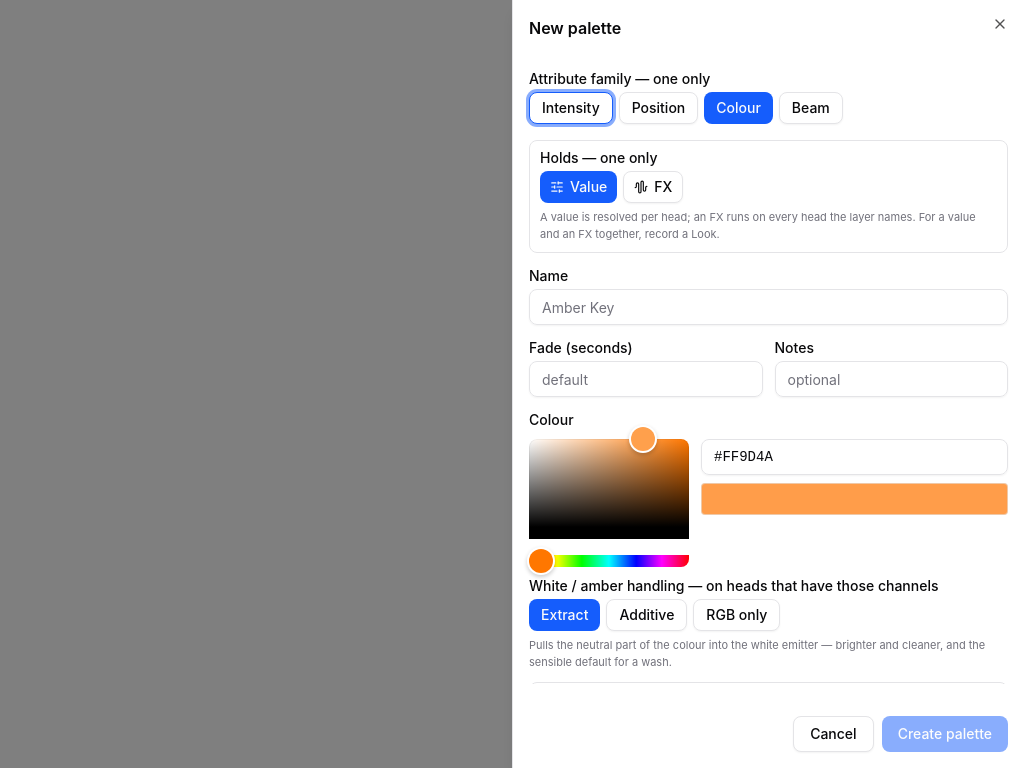
the effect branch › offers only the family’s own category
Click the button "FX". click: (653,187)
box: [623,171,683,203]
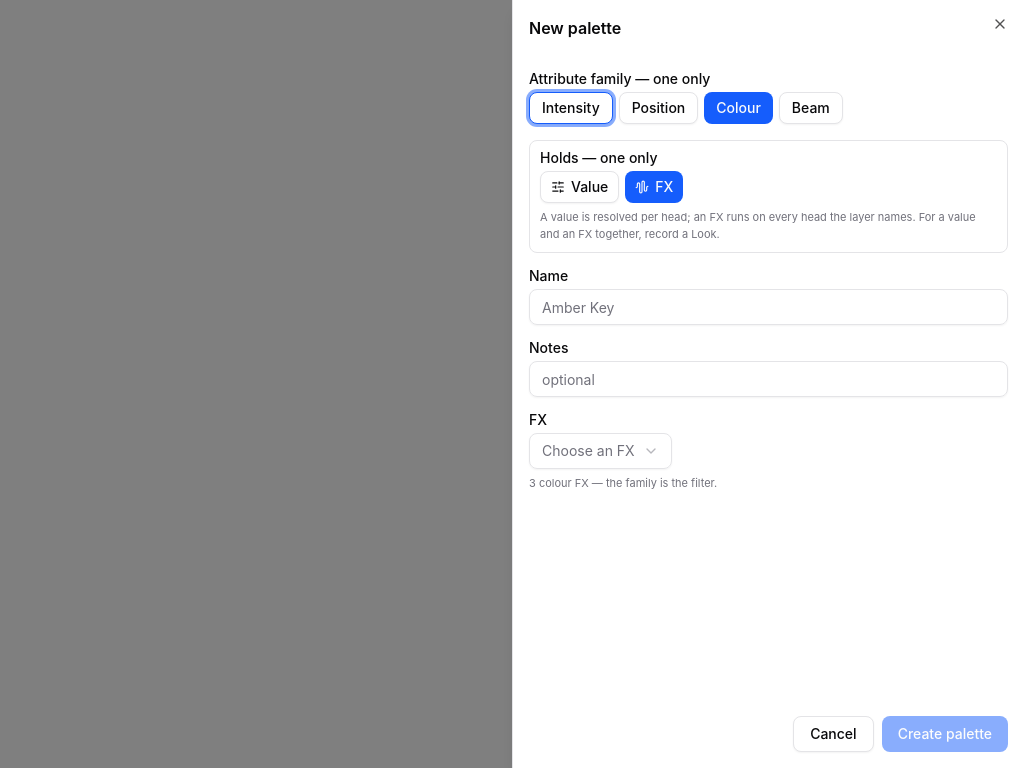
Click the dropdown. click: (600,451)
box: [529,433,672,469]
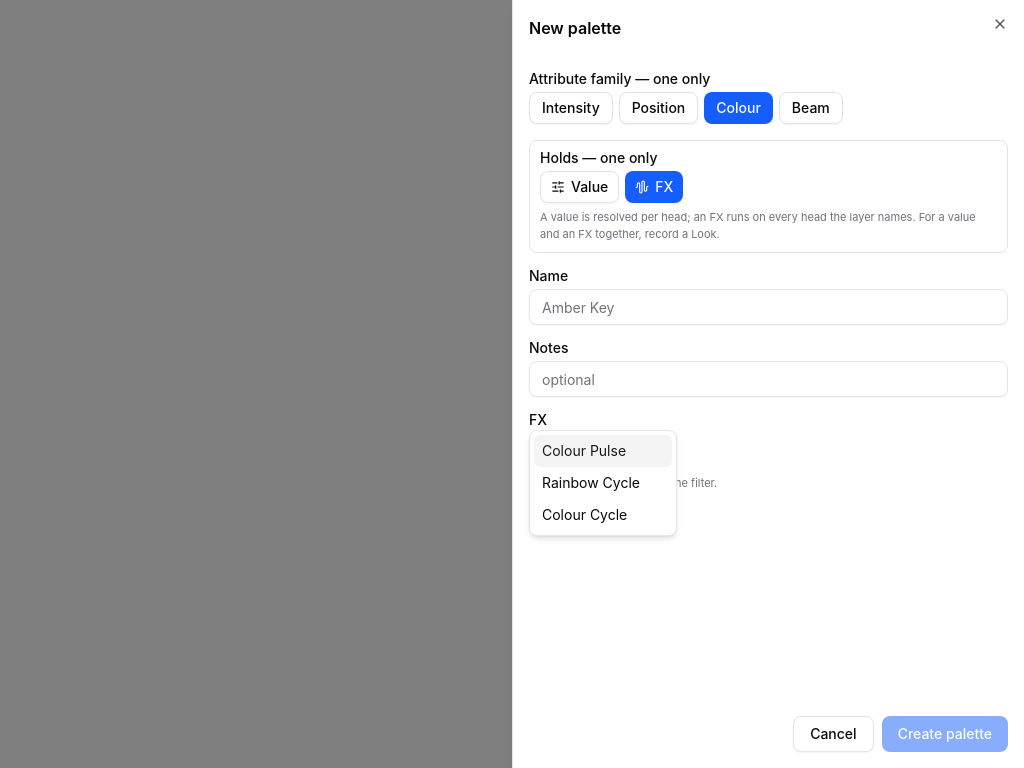
Expected: the option "Colour Pulse" is shown, [534,435,672,467]
Expected: the option "Rainbow Cycle" is shown, [542,474,640,491]
